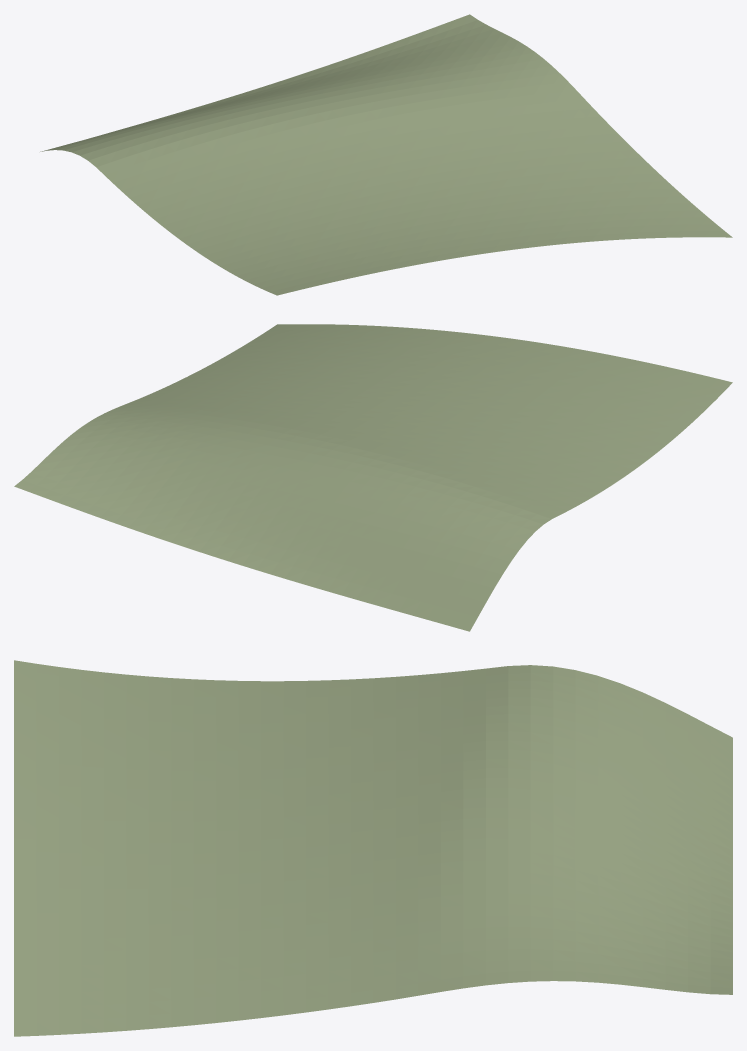
File: alpine-9-3.glb
The picture shows the model from 3 angles, top to bottom: view 1: azimuth 30°, elevation 25°; view 2: azimuth 150°, elevation 25°; view 3: azimuth 270°, elevation 25°; orthographic projection. The views are drawn at different scales.
Parts seen in each view (by area): view 1: alpine-9-3; view 2: alpine-9-3; view 3: alpine-9-3.
Boxes of the visible parts, x1,y1,x2,y2 form: alpine-9-3: (40,14,732,295); alpine-9-3: (14,324,732,631); alpine-9-3: (14,660,732,1036).
Bounding box in the file's own units: 256 × 32.7 × 256.
